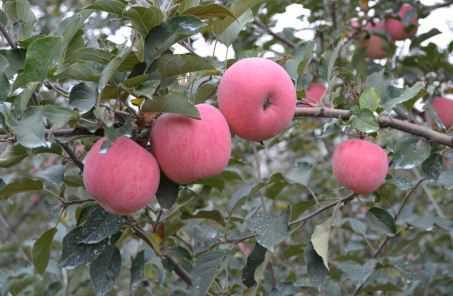apple: (215, 56, 296, 143), (75, 136, 161, 217), (147, 103, 232, 184), (332, 138, 388, 194)
